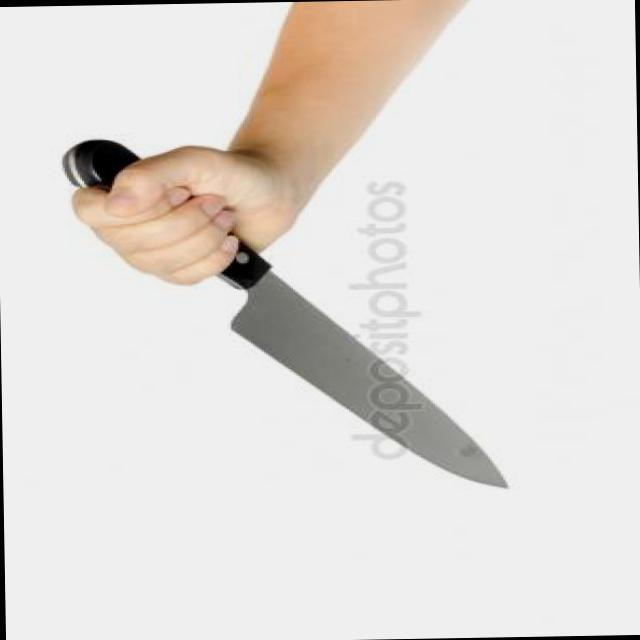knife: (140, 184, 518, 504)
